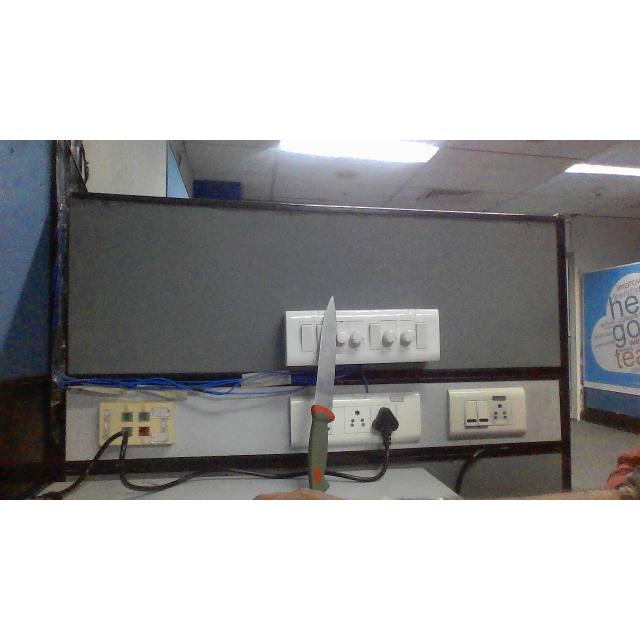Knife: (308, 295, 337, 492)
